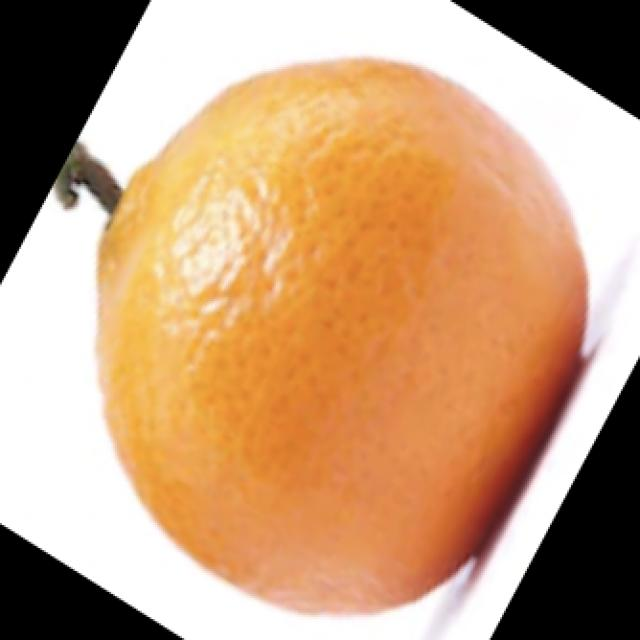fresh: (36, 0, 594, 628)
